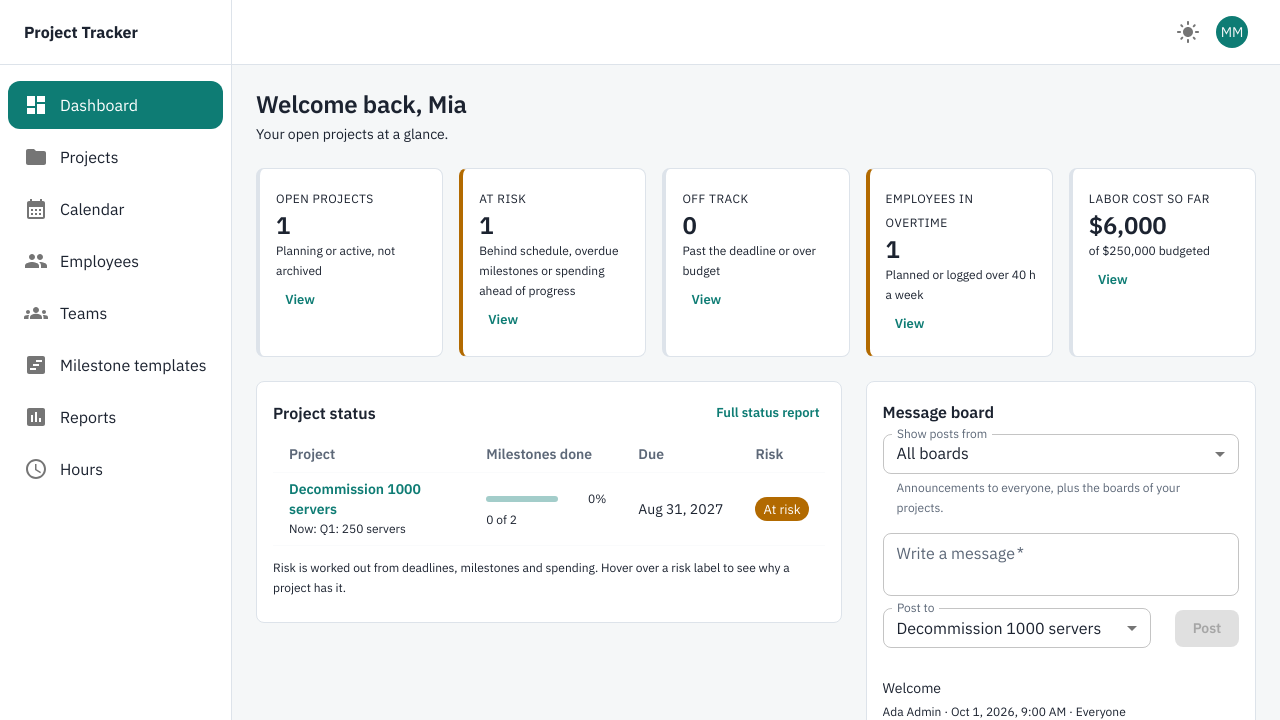
message board › managers delete their own posts and post to their first project by default
The image size is (1280, 720).
Type "Row 5 next" into the text box labelled "Write a message *".
click(1061, 565); type("Row 5 next")  # box [897,542,1225,588]
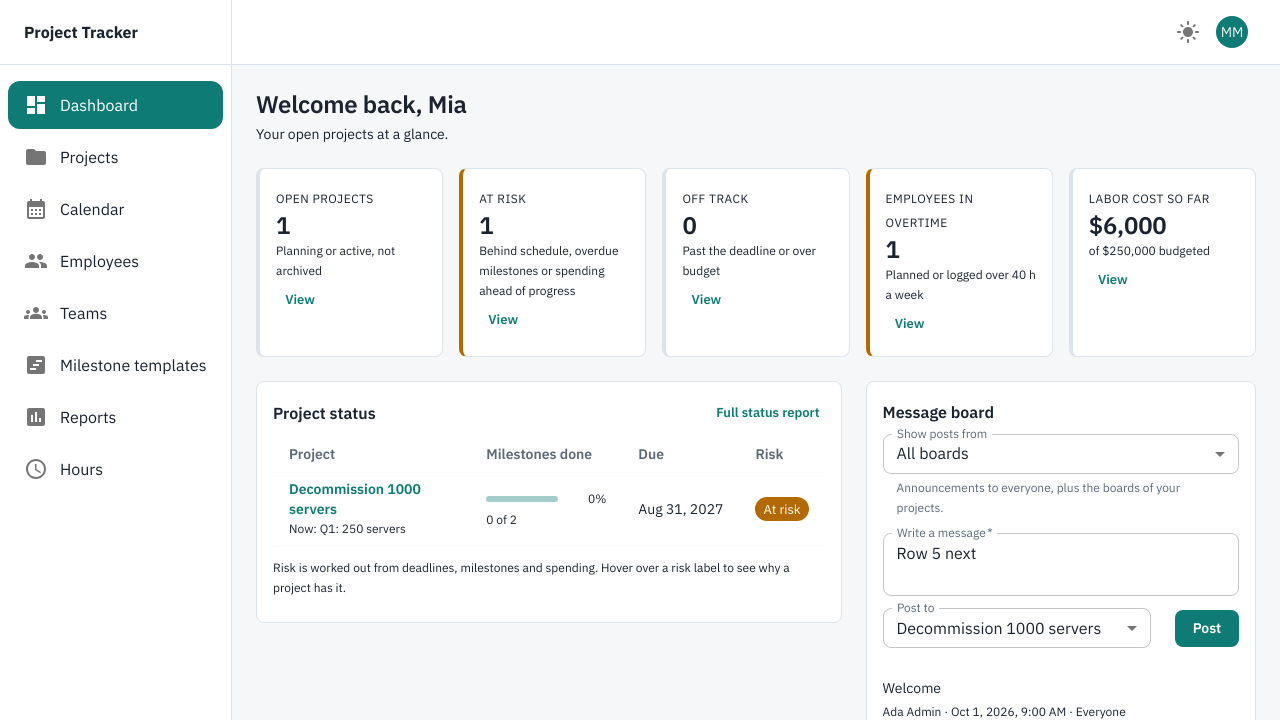
Click the button "Post".
click(1207, 628)  # box [1175,610,1239,647]
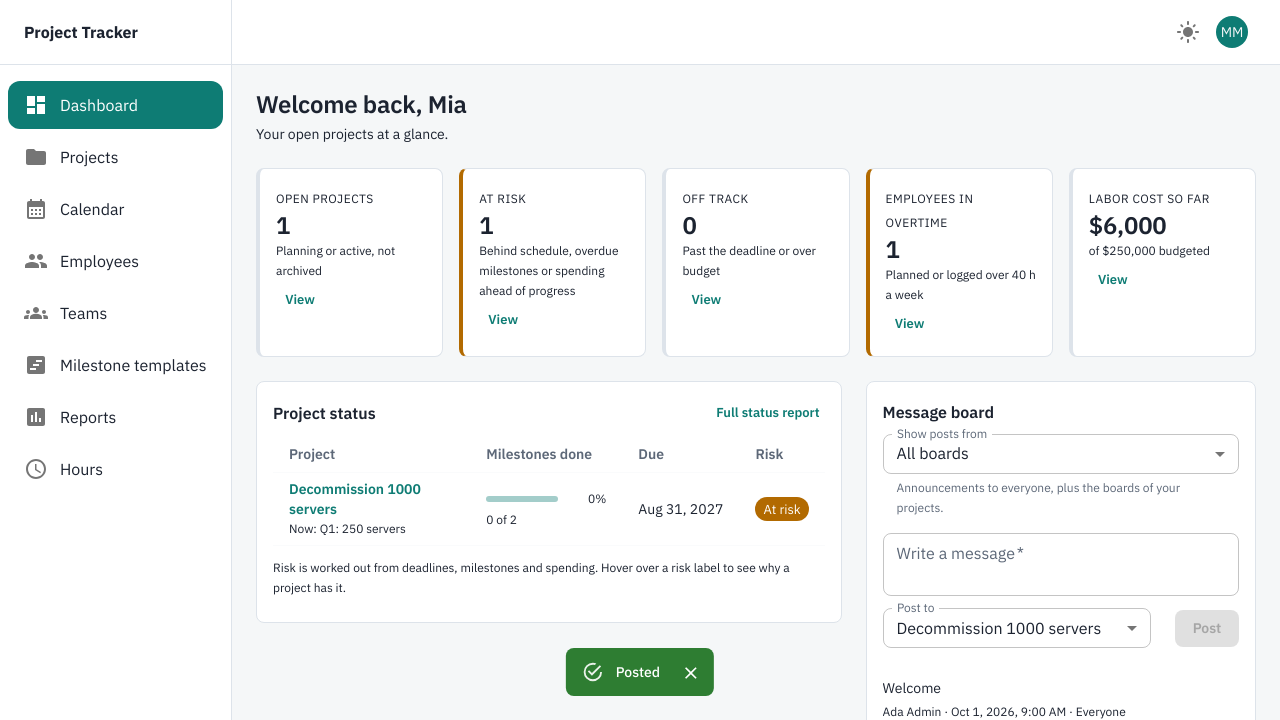
Check: the text "Posted" is shown, box [616,663,660,681]
